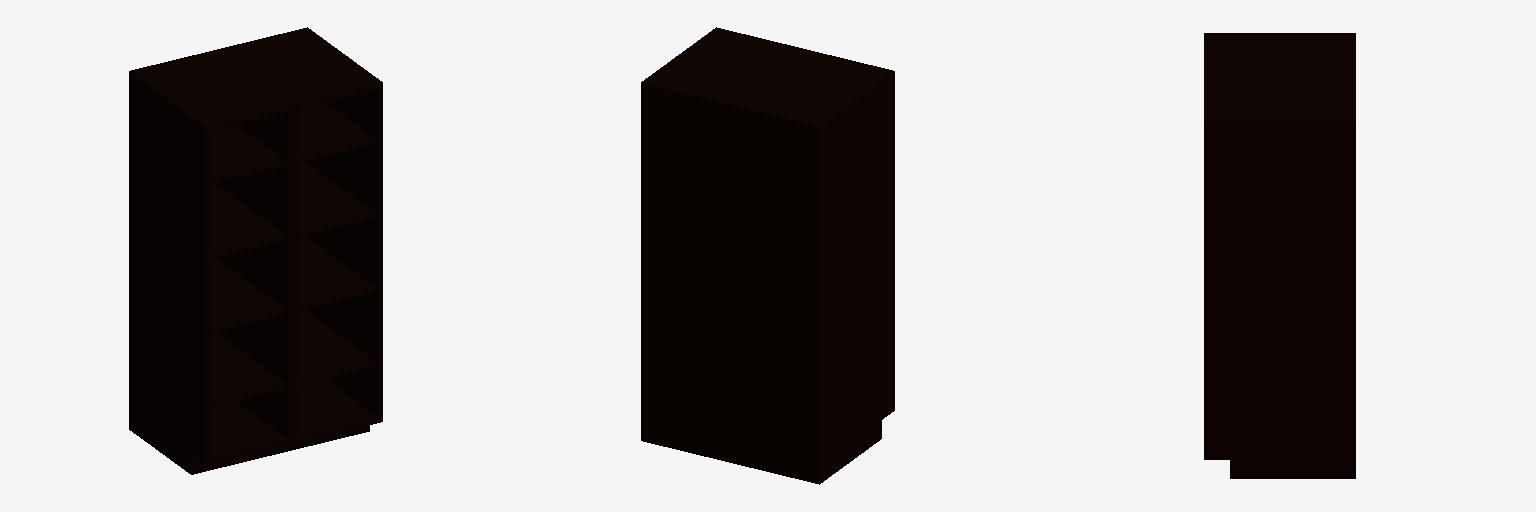
The model's file is OpenDoorTallCabinet1.obj.
The picture shows the model from 3 angles: view 1: azimuth 30°, elevation 25°; view 2: azimuth 150°, elevation 25°; view 3: azimuth 270°, elevation 25°; orthographic projection.
Parts seen in each view (by area): view 1: OpenDoorTallCabinet1_Cube.002; view 2: OpenDoorTallCabinet1_Cube.002; view 3: OpenDoorTallCabinet1_Cube.002.
Part boxes in pixels (x1,y1,x2,y2): OpenDoorTallCabinet1_Cube.002: (129,27,382,474); OpenDoorTallCabinet1_Cube.002: (641,27,894,484); OpenDoorTallCabinet1_Cube.002: (1204,33,1355,478).
Size of the model in its own units: 0.9371 by 1.79 by 0.6862.